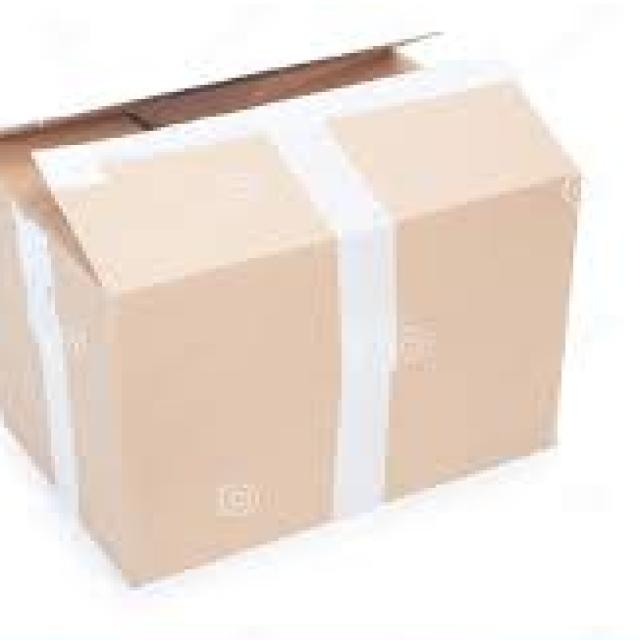organic: (0, 51, 640, 592)
